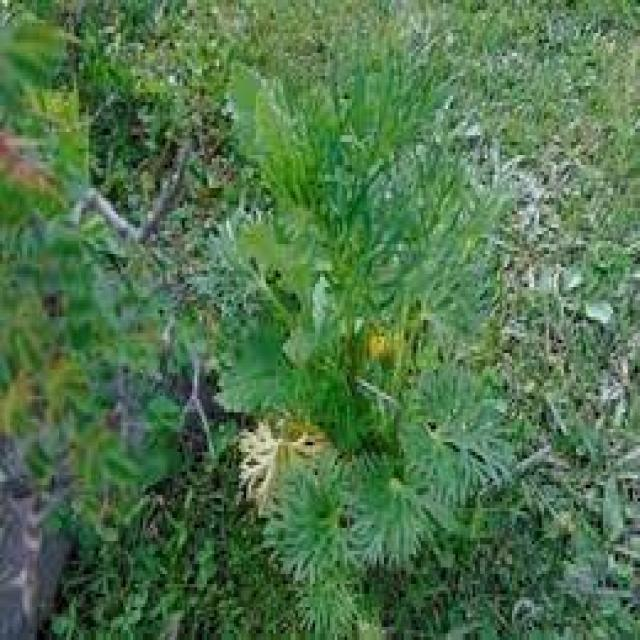Meetha: (7, 199, 485, 640), (248, 211, 640, 640), (187, 14, 558, 425)
